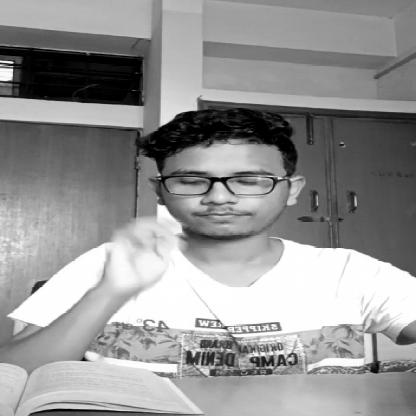Normal: (150, 116, 304, 240)
